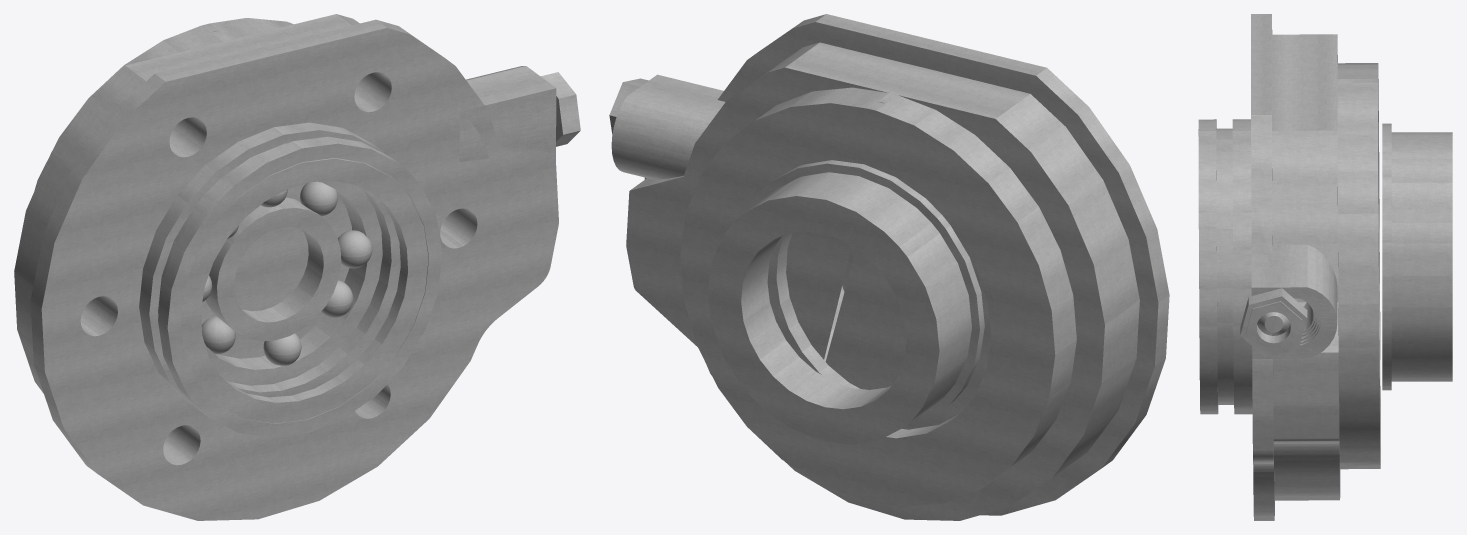
The picture shows the model from 3 angles, left to right: view 1: azimuth 30°, elevation 25°; view 2: azimuth 150°, elevation 25°; view 3: azimuth 270°, elevation 25°; orthographic projection. The views are drawn at different scales.
Parts seen in each view (by area): view 1: 3, 2, 1, 8; view 2: 3, 4, 2; view 3: 3, 4, 8, 7.
Boxes of the visible parts, bbox=[...] form: 3: bbox=[14, 14, 558, 520]; 2: bbox=[201, 180, 400, 397]; 1: bbox=[180, 158, 428, 423]; 8: bbox=[541, 72, 580, 146]; 3: bbox=[611, 14, 1169, 520]; 4: bbox=[708, 160, 984, 444]; 2: bbox=[767, 233, 991, 429]; 3: bbox=[1198, 14, 1380, 520]; 4: bbox=[1382, 123, 1452, 390]; 8: bbox=[1240, 288, 1307, 357]; 7: bbox=[1257, 312, 1290, 335].
Size of the model in its own units: 433 by 358 by 191.
Materials: 7 (7 with a texture image).
